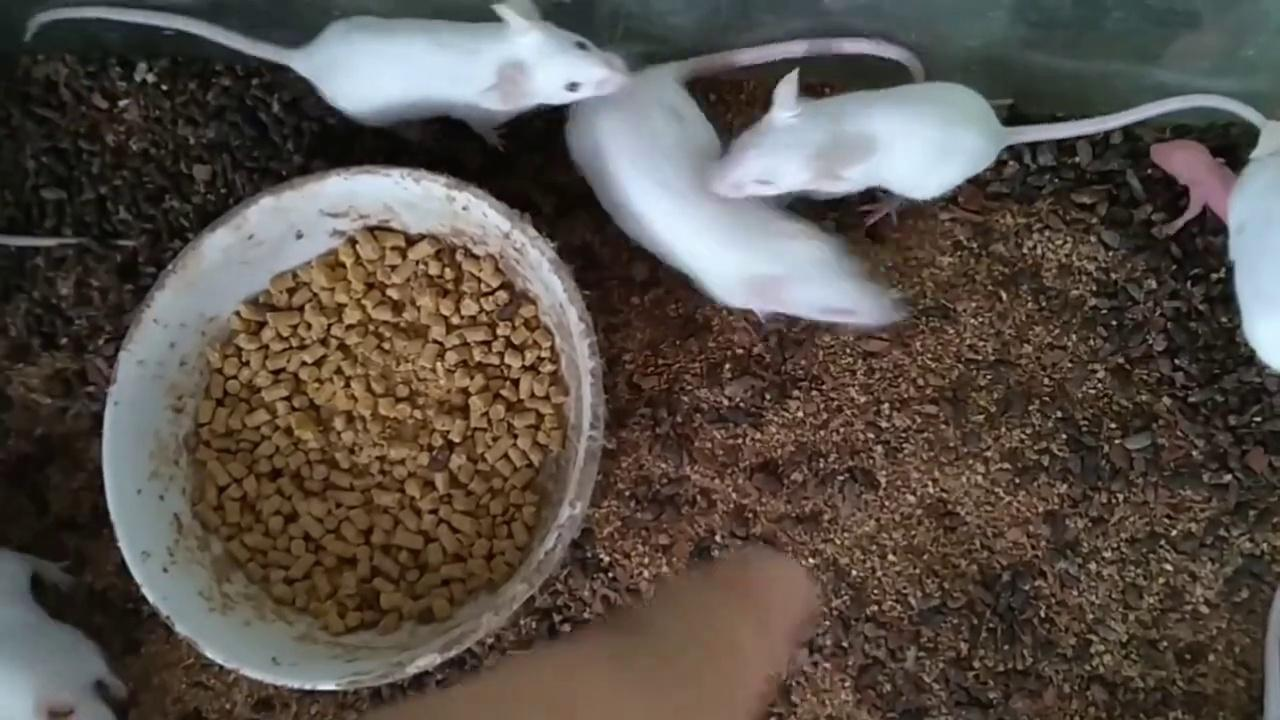rat: (574, 40, 924, 322), (707, 70, 1280, 226), (25, 0, 626, 145), (0, 549, 126, 720), (1147, 142, 1244, 240)
